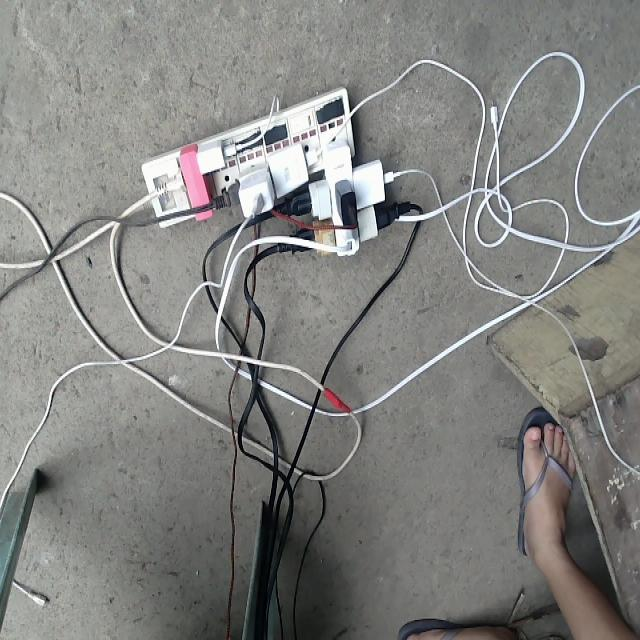-: (140, 83, 403, 255)
